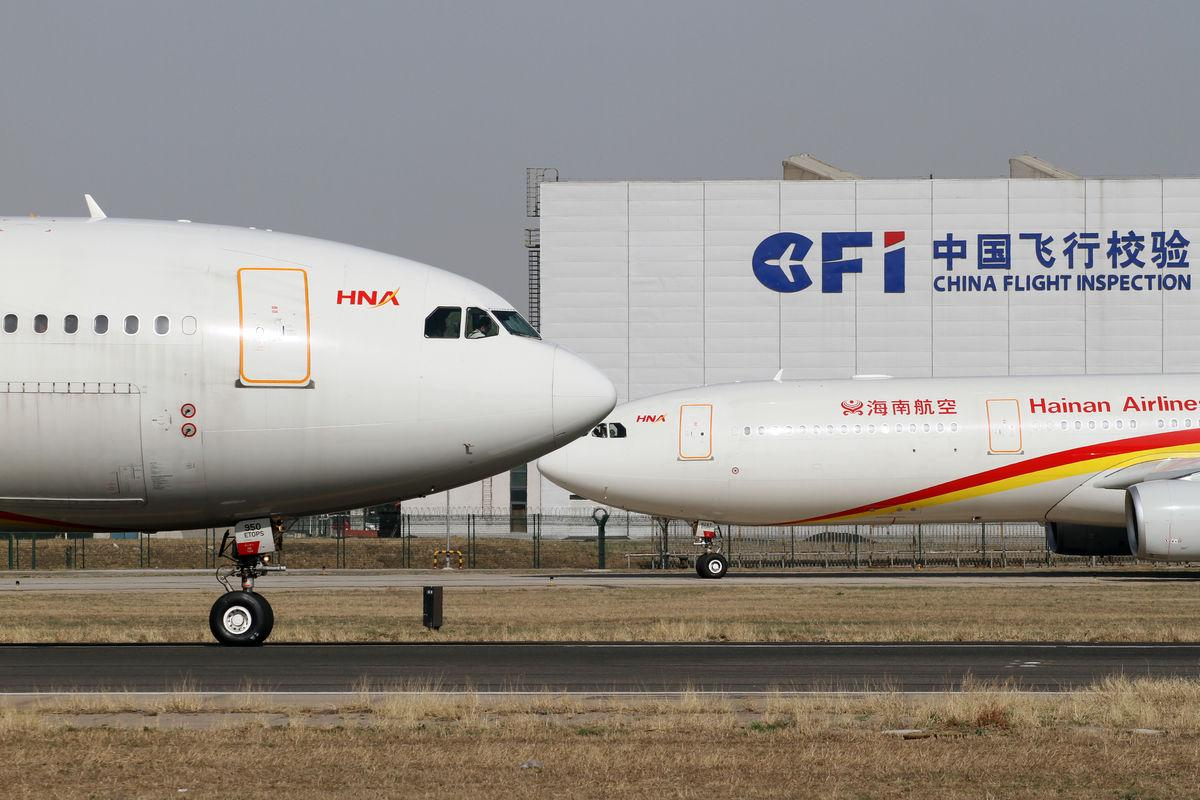airplane: (536, 363, 1200, 558)
